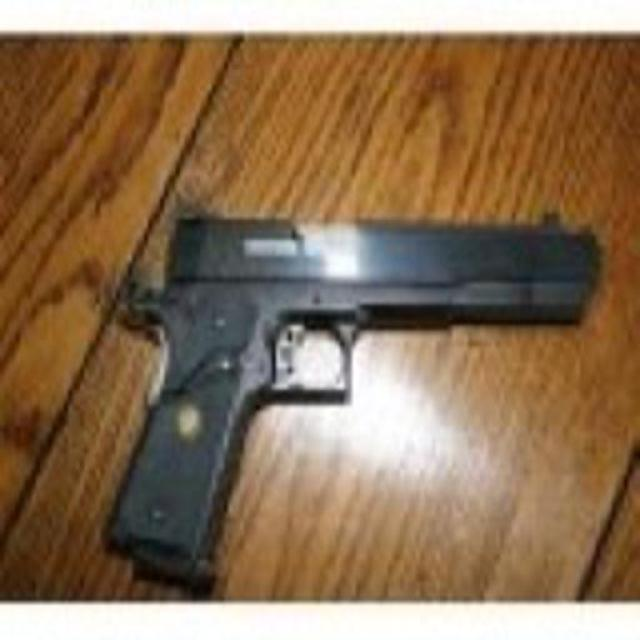pistol: (95, 202, 604, 591)
